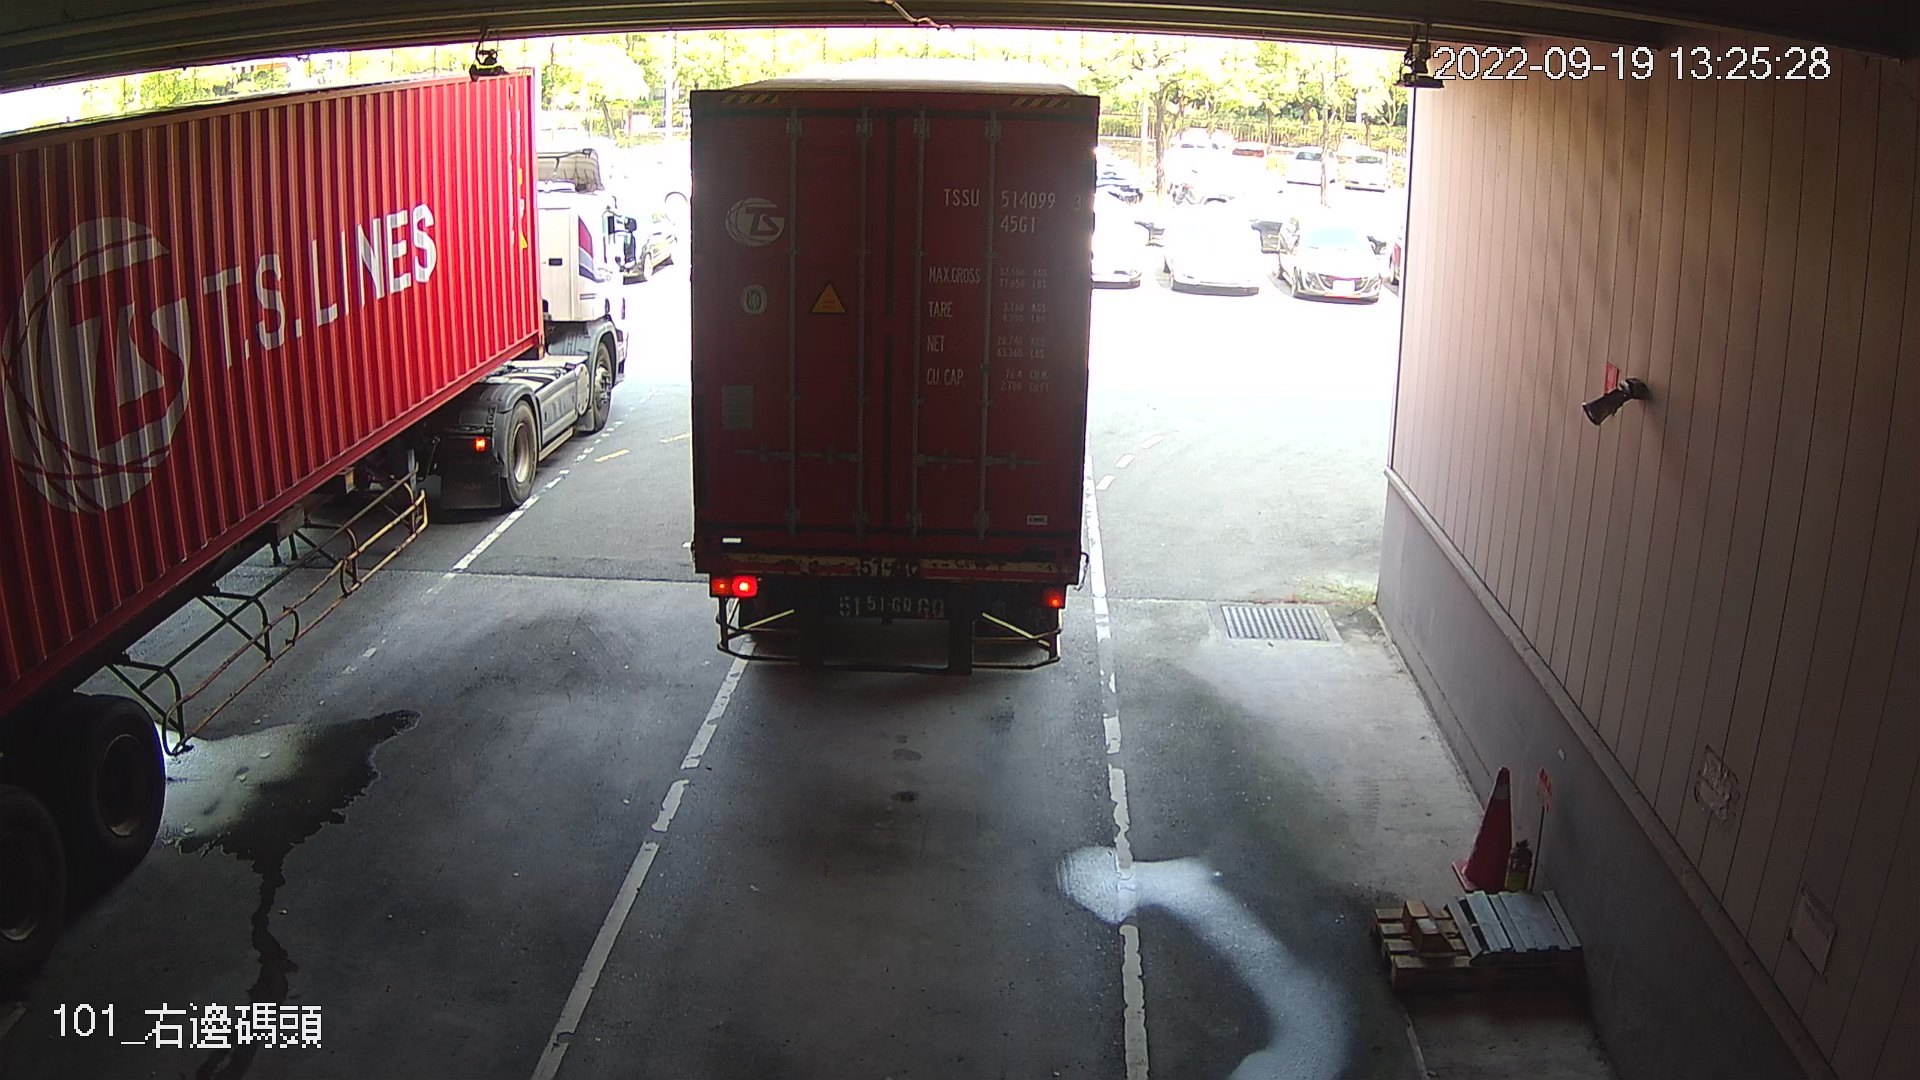container: (932, 179, 1091, 241)
